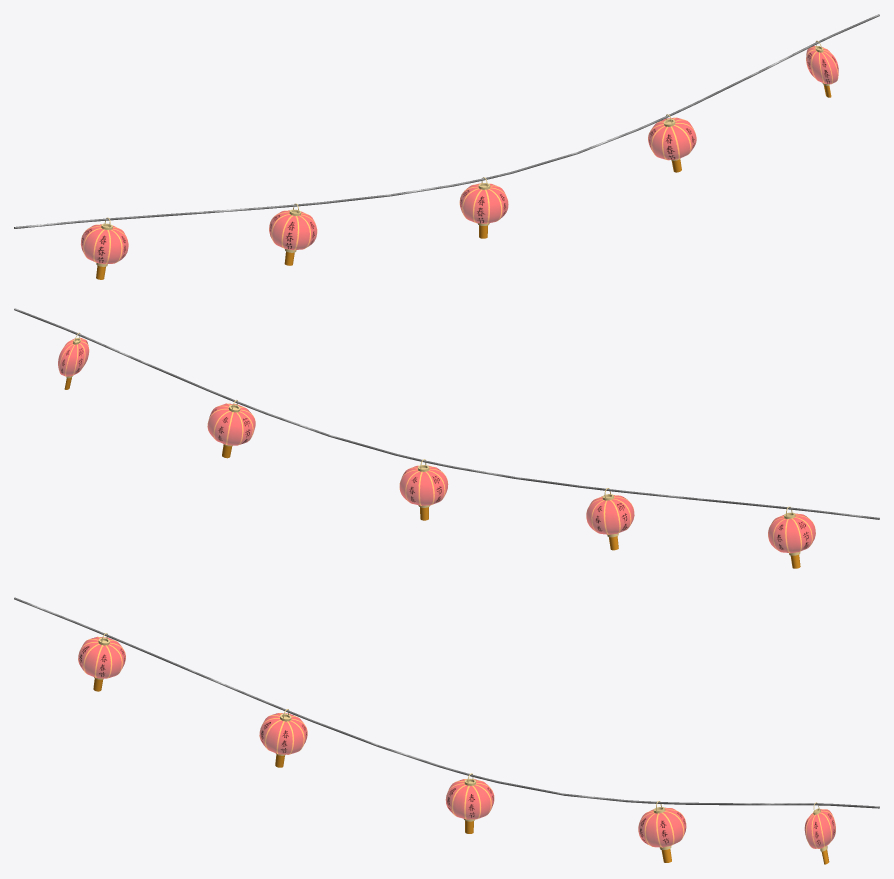
File: SM_lamp_spline_Splines_22.fbx
The picture shows the model from 3 angles, top to bottom: view 1: azimuth 30°, elevation 25°; view 2: azimuth 150°, elevation 25°; view 3: azimuth 330°, elevation 25°; orthographic projection.
Visible parts, largest first — view 1: SM_lamp_spline_Splines_22; view 2: SM_lamp_spline_Splines_22; view 3: SM_lamp_spline_Splines_22.
Part boxes in pixels (x1,y1,x2,y2): SM_lamp_spline_Splines_22: [14, 14, 879, 279]; SM_lamp_spline_Splines_22: [14, 308, 879, 568]; SM_lamp_spline_Splines_22: [14, 597, 879, 864].
Bounding box in the file's own units: 1158 × 68.61 × 152.
